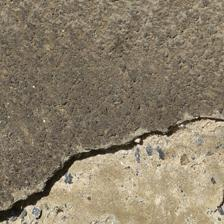Crack: (2, 58, 219, 163)
